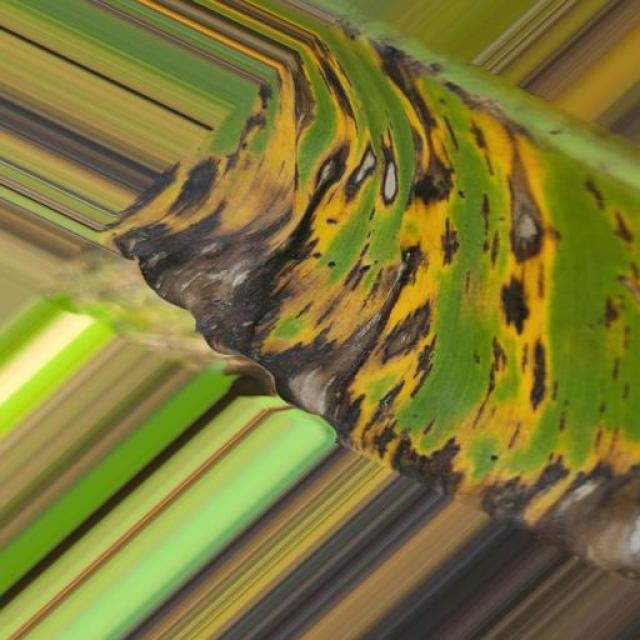Early_rust: (102, 15, 640, 526)
